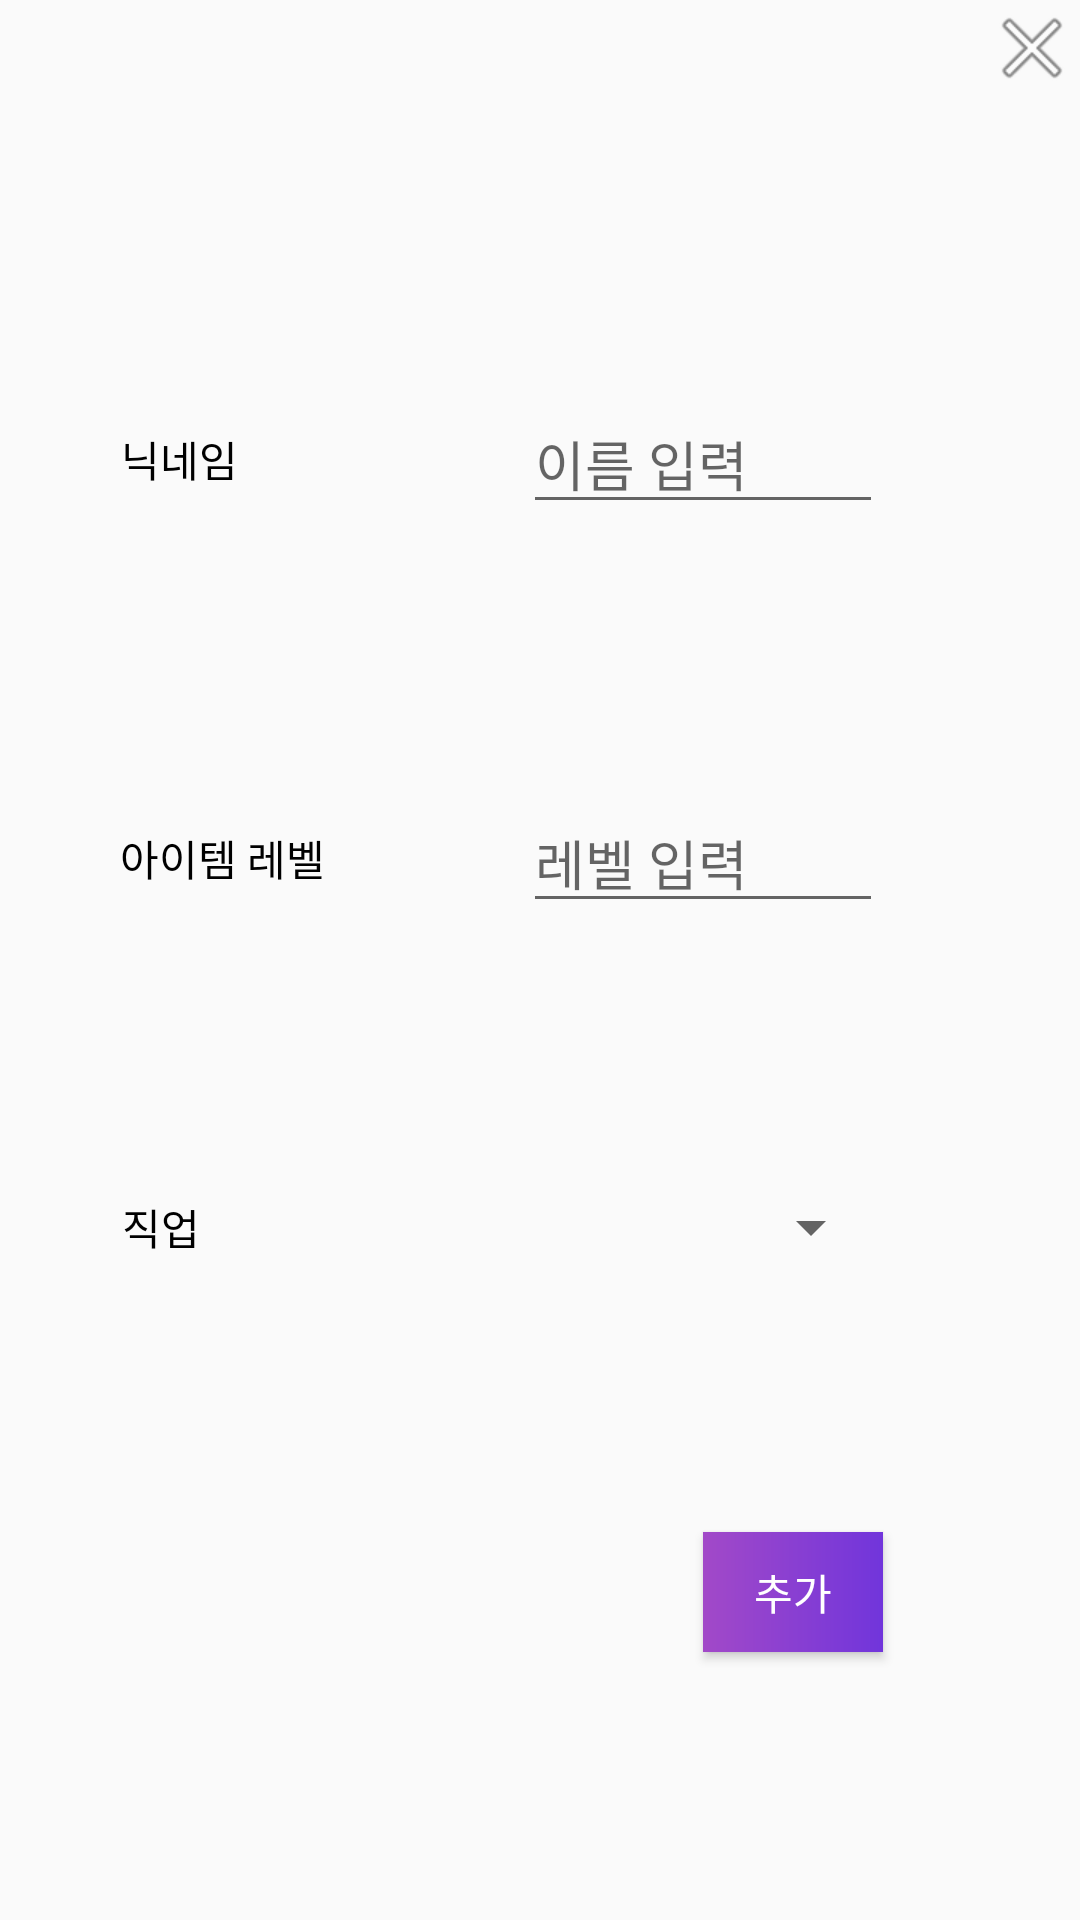

Screen size 1080 x 1920. Icon name, then its center in pixels as point (x, y):
close clear cancel: point (1032, 48)
